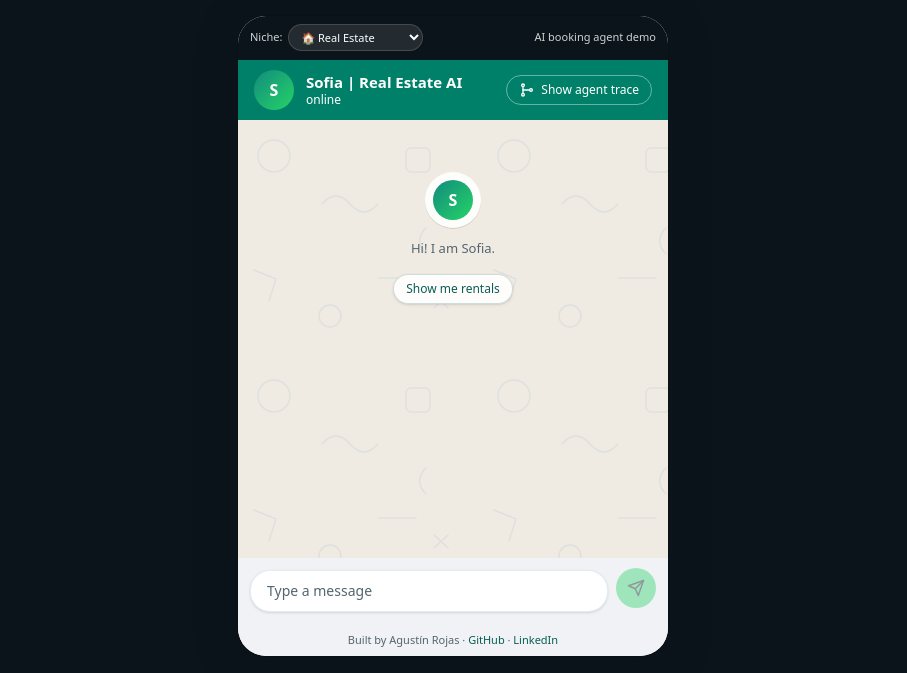
chat flow › toggles the trace panel from the header
The width and height of the screenshot is (907, 673).
Expected: the heading "Sofia | Real Estate AI" is shown, [306,72,462,92]
Expected: the text "Hi! I am Sofia." is shown, [411,240,495,258]
Click the button "Show agent trace" at (579, 90), box [506,75,652,105]
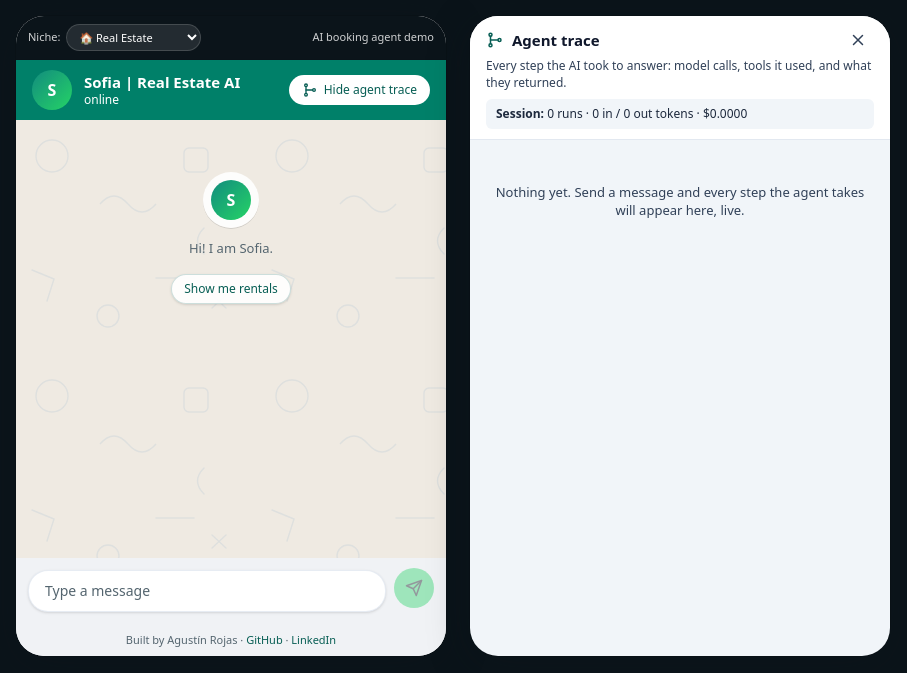
Now the element with test id "trace-panel" is shown, box [470,16,890,656]
Click the button "Hide agent trace" at (359, 90), box [289,75,430,105]
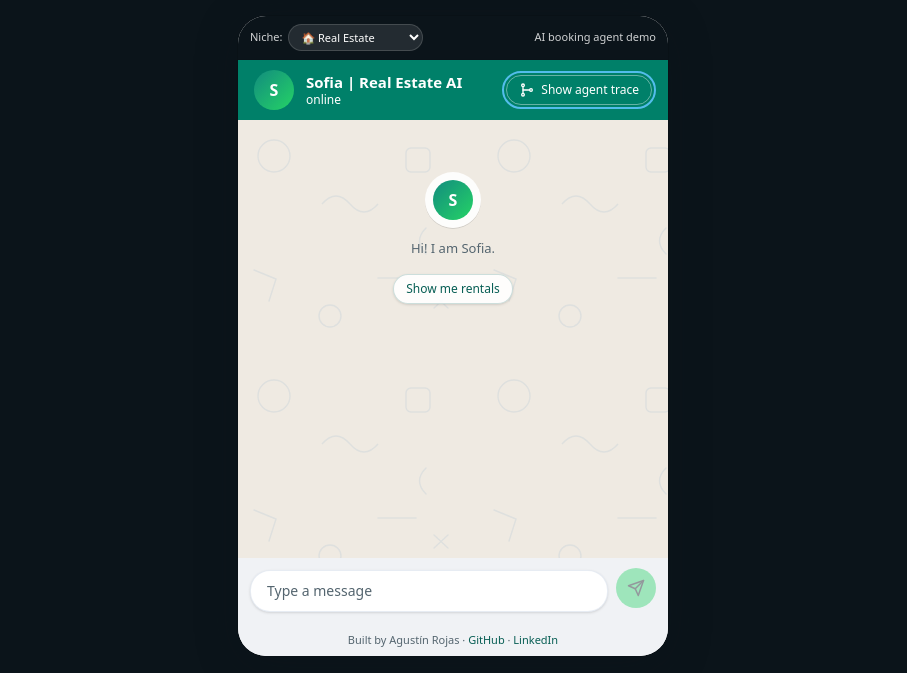
Now the element with test id "trace-panel" is gone
